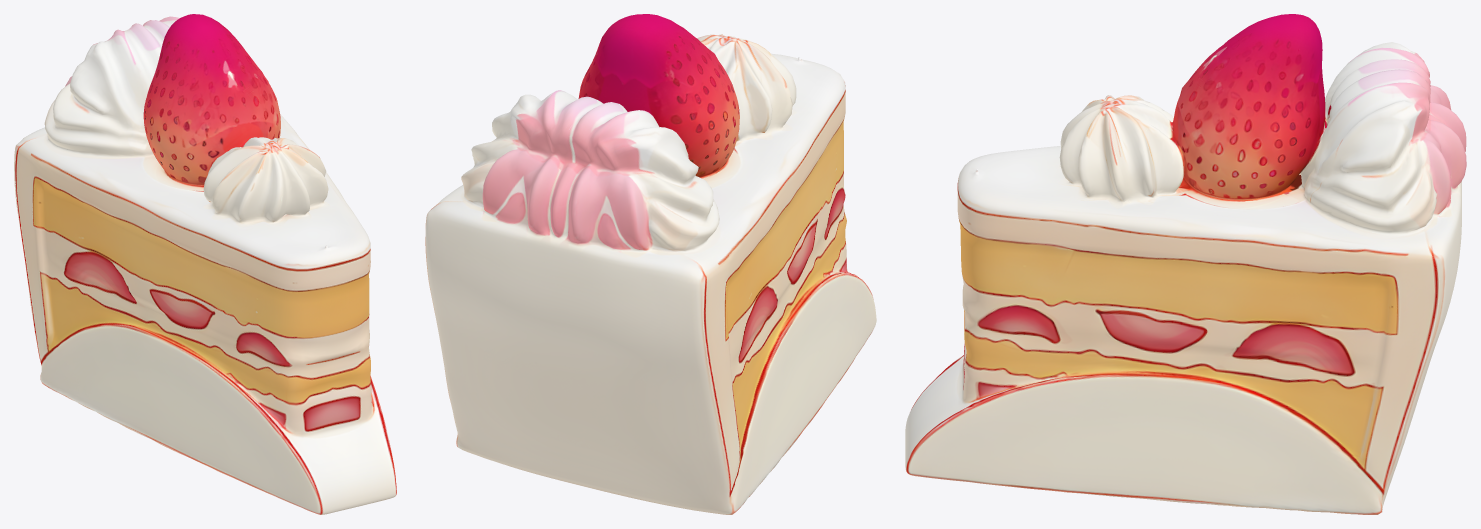
Rendered from cake_anime_model_1.glb.
3 views of the same model, side by side, from view 1: azimuth 30°, elevation 25°; view 2: azimuth 150°, elevation 25°; view 3: azimuth 270°, elevation 25° (orthographic). The views are drawn at different scales.
Visible parts, largest first — view 1: model_0; view 2: model_0; view 3: model_0.
Boxes of the visible parts, x1,y1,x2,y2 form: model_0: [14, 14, 396, 514]; model_0: [425, 14, 876, 514]; model_0: [905, 14, 1466, 514].
Size of the model in its own units: 1.09 by 1.64 by 1.9.
1 material, 1 textured.
